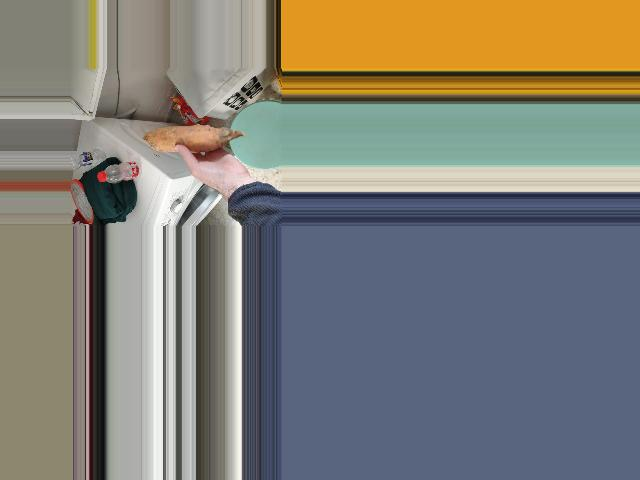sweet_potato: (155, 125, 235, 156)
